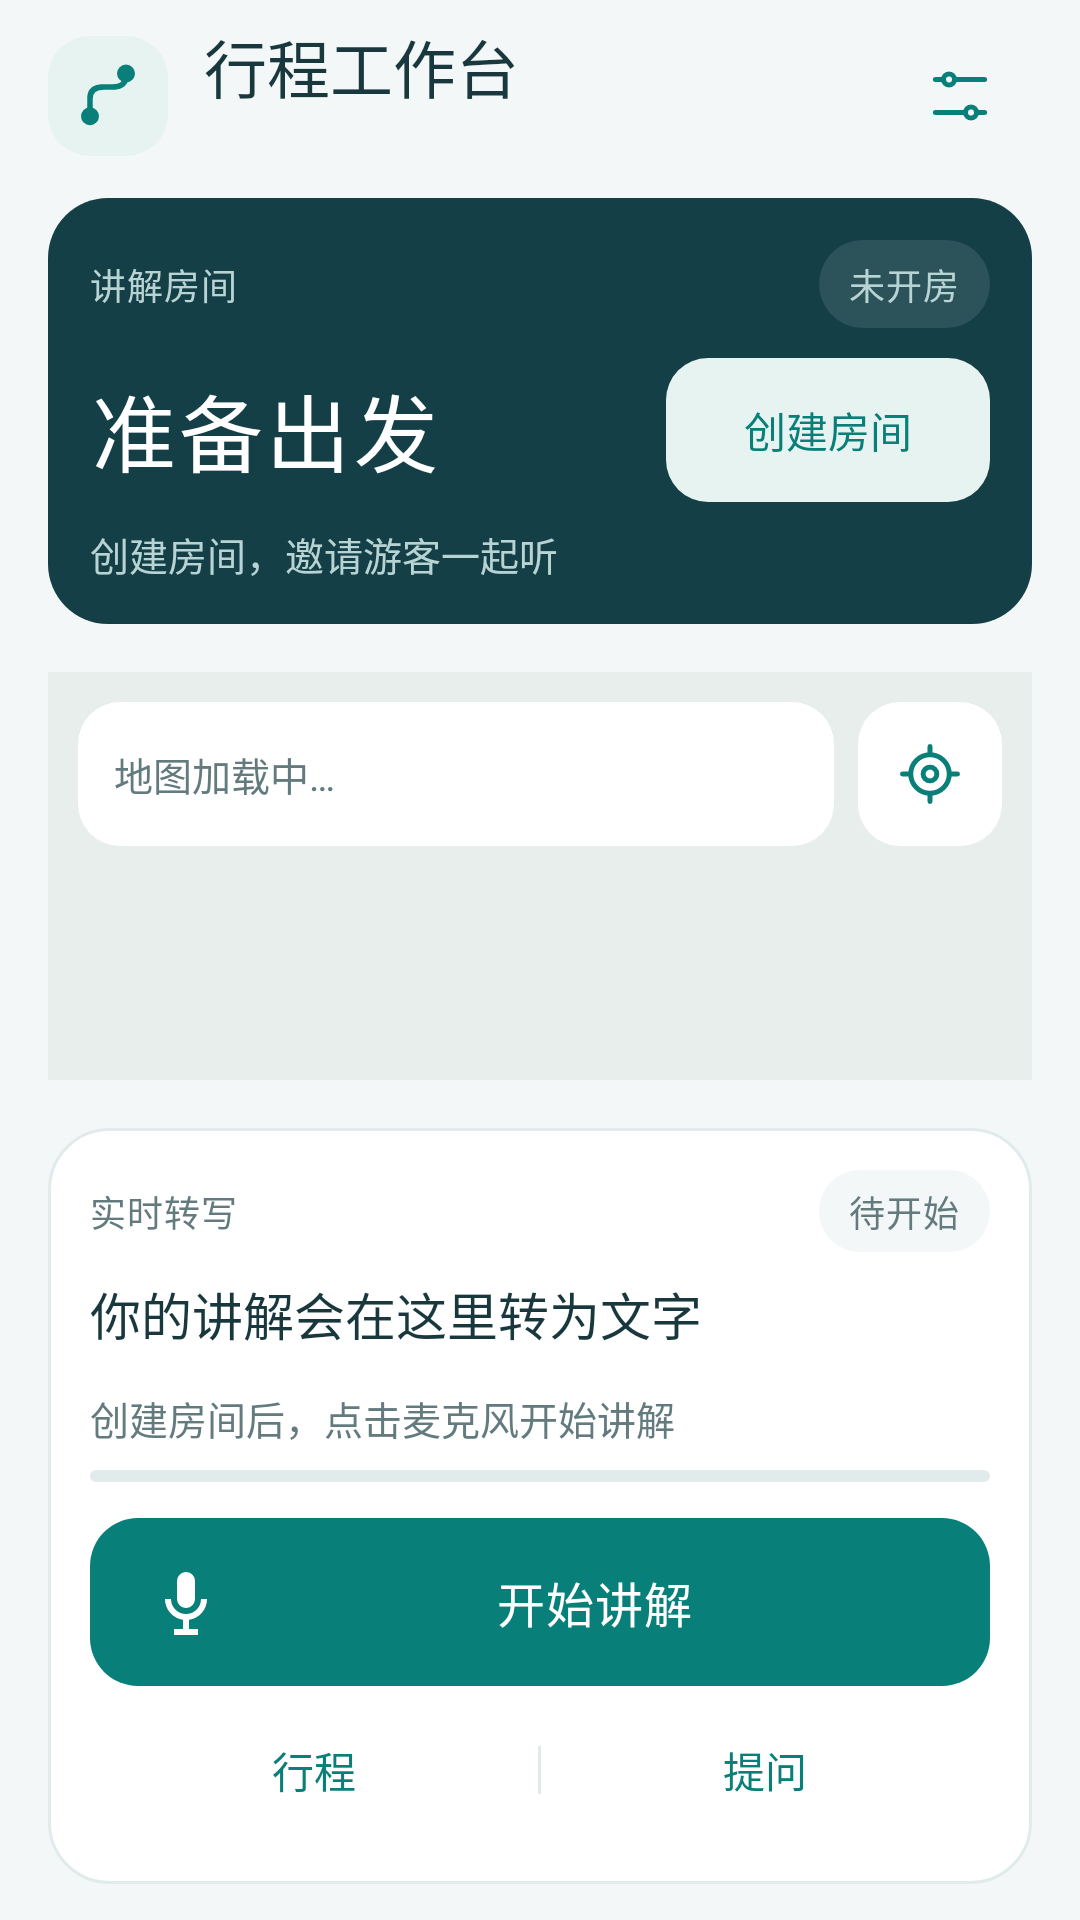

Icon bounding boxes for this 1080w x 1920h phone screenshot, format (x1, y1, x2, y2):
route: (48, 36, 168, 156)
定位: (858, 702, 1002, 846)
设置: (932, 71, 988, 121)
